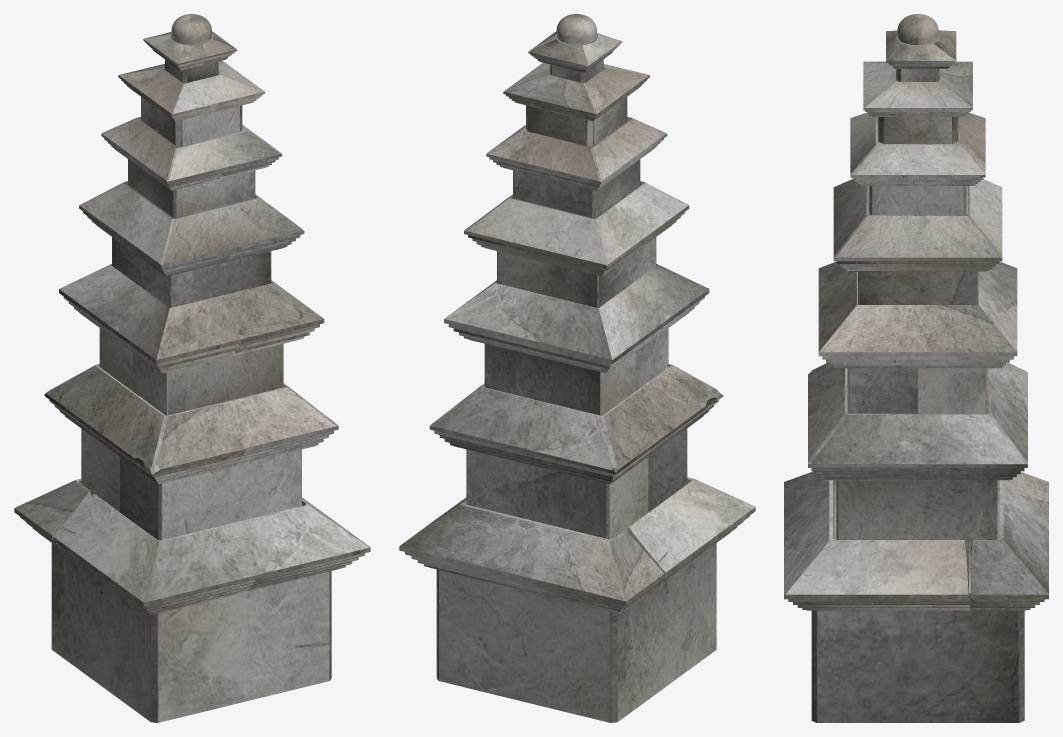
Rendered from 02. 5층석탑.fbx.
3 views of the same model, side by side, from view 1: azimuth 30°, elevation 25°; view 2: azimuth 150°, elevation 25°; view 3: azimuth 270°, elevation 25° (orthographic). The views are drawn at different scales.
Visible parts, largest first — view 1: 01. Body, 02. loop; view 2: 01. Body, 02. loop; view 3: 01. Body, 02. loop.
Boxes of the visible parts, x1,y1,x2,y2 form: 01. Body: [14, 14, 370, 614]; 02. loop: [51, 59, 331, 722]; 01. Body: [399, 14, 755, 613]; 02. loop: [436, 59, 716, 722]; 01. Body: [784, 14, 1048, 610]; 02. loop: [811, 69, 1024, 722].
Size of the model in its own units: 2999 by 8157 by 2965.
2 materials, 2 textured.
